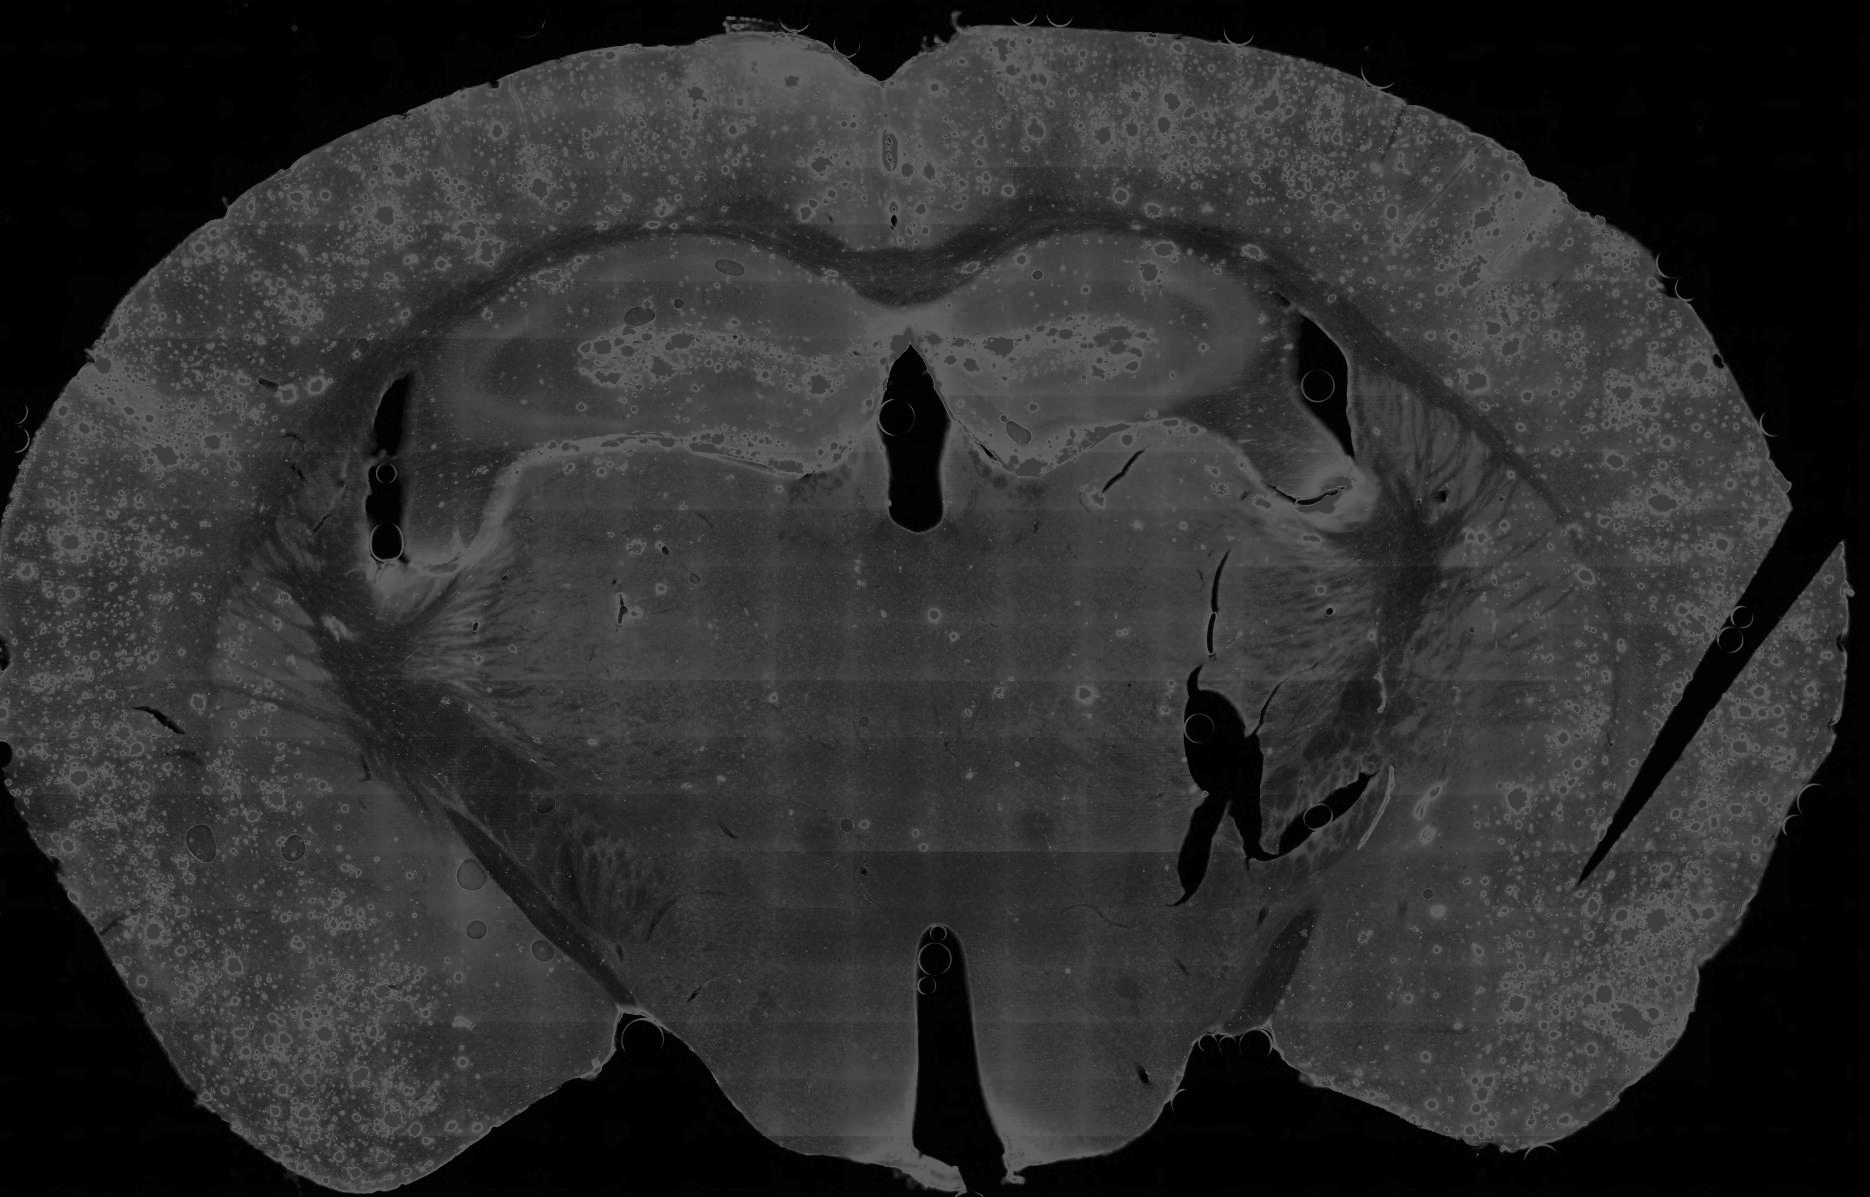Cerebral nuclei: (1358, 363, 1614, 858), (210, 492, 424, 890)
Hippocampal formation: (433, 232, 912, 474), (906, 230, 1266, 477)
Hypothalamus: (930, 802, 1325, 1172), (572, 795, 955, 1171)
Retrosplenial area: (882, 44, 1034, 254), (777, 44, 894, 251)
Somatosensory area: (0, 55, 609, 619), (1148, 31, 1675, 447)
Thalamus: (403, 416, 930, 853), (919, 417, 1390, 858)
